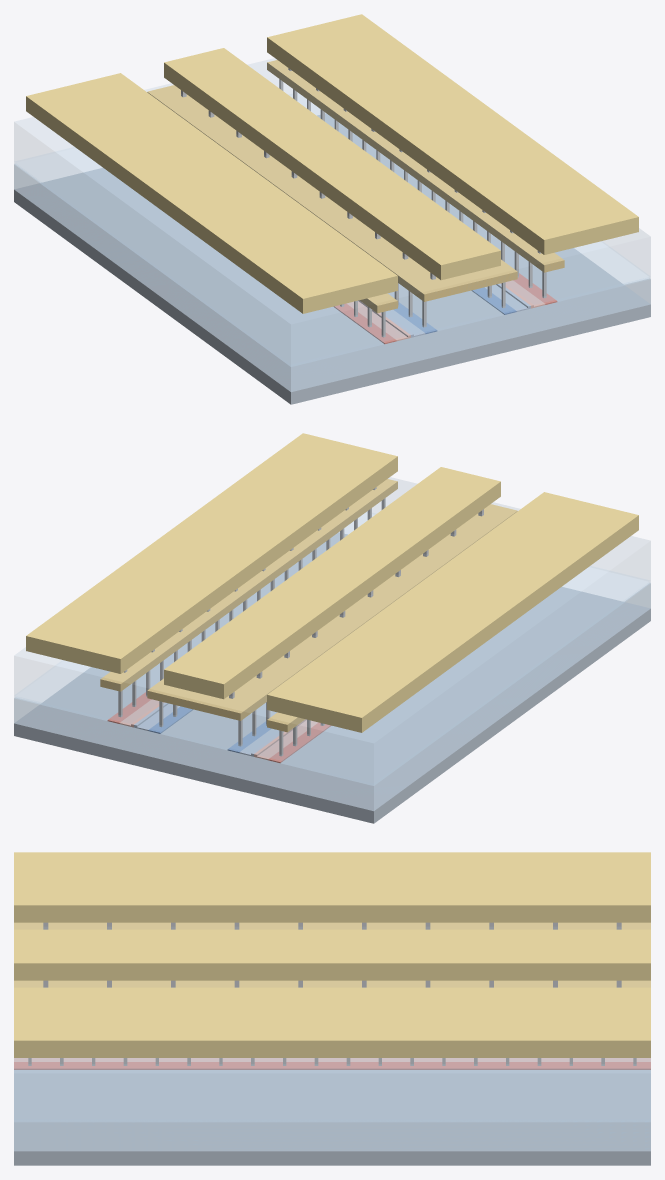
Rendered from stack-mzm.glb.
The picture shows the model from 3 angles, top to bottom: view 1: azimuth 30°, elevation 25°; view 2: azimuth 150°, elevation 25°; view 3: azimuth 270°, elevation 25°; orthographic projection. The views are drawn at different scales.
Parts seen in each view (by area): view 1: metal2, sisub, cladd, box, metal1, wplug, pdop, pp, ndop, nn; view 2: metal2, sisub, cladd, box, metal1, wplug, pdop, pp, ndop, nn; view 3: metal2, sisub, cladd, box, metal1, pp, pdop, wplug.
Part boxes in pixels (box(x1,y1,x2,y2)): metal2: box(26, 14, 638, 313); sisub: box(14, 113, 650, 404); cladd: box(14, 58, 650, 366); box: box(14, 164, 650, 391); metal1: box(147, 60, 564, 313); wplug: box(181, 68, 546, 337); pdop: box(346, 280, 545, 341); pp: box(334, 273, 557, 344); ndop: box(381, 283, 530, 337); nn: box(393, 287, 516, 334); metal2: box(26, 433, 638, 732); sisub: box(14, 532, 650, 823); cladd: box(14, 477, 650, 785); box: box(14, 583, 650, 810); metal1: box(100, 479, 517, 732); wplug: box(118, 487, 483, 756); pdop: box(119, 699, 318, 760); pp: box(107, 692, 330, 763); ndop: box(134, 702, 283, 756); nn: box(148, 706, 271, 753); metal2: box(14, 852, 650, 1057); sisub: box(14, 1070, 650, 1165); cladd: box(14, 1058, 650, 1121); box: box(14, 1120, 650, 1150); metal1: box(14, 922, 650, 987); pp: box(14, 1062, 650, 1069); pdop: box(14, 1058, 650, 1061); wplug: box(28, 922, 636, 1065).
Bounding box in the file's own units: 30 × 8.2 × 40.
